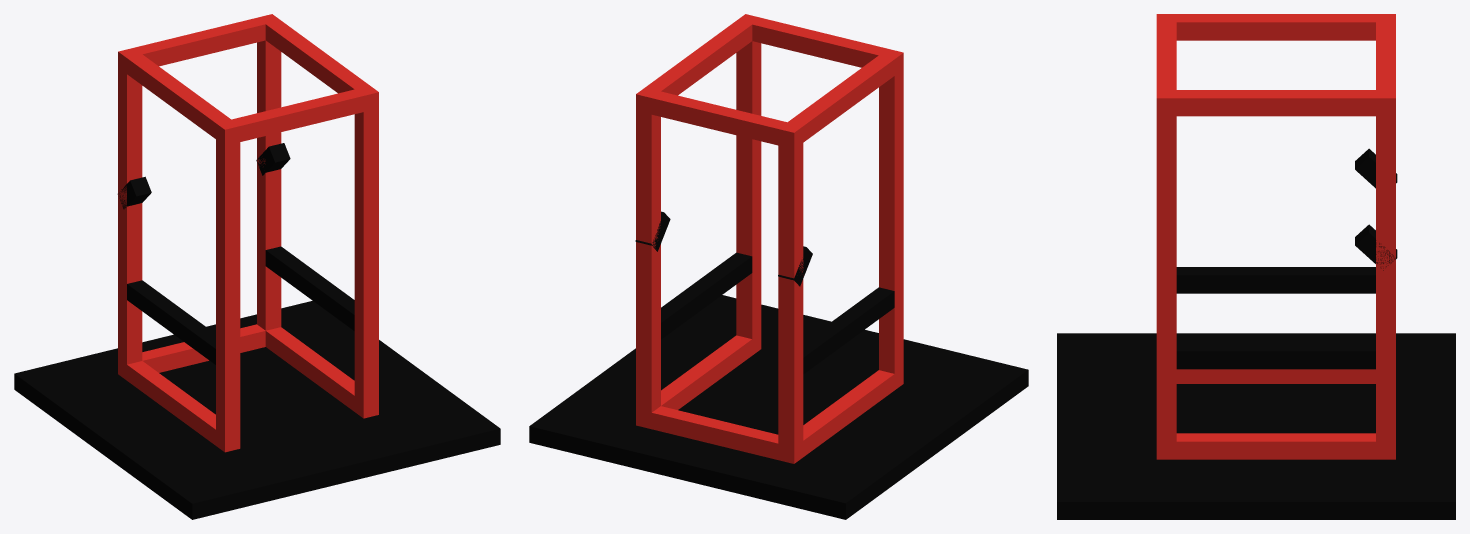
The model's file is squat.fbx.
3 views of the same model, side by side, from view 1: azimuth 30°, elevation 25°; view 2: azimuth 150°, elevation 25°; view 3: azimuth 270°, elevation 25° (orthographic). The views are drawn at different scales.
Parts seen in each view (by area): view 1: Cube, Cube.007, Cube.006, Cube.005, Cube.008, Cube.010, Cube.011, Cube.003, Cube.014, Cube.002, Cube.012, Cube.013 (+4 smaller); view 2: Cube, Cube.005, Cube.008, Cube.007, Cube.006, Cube.001, Cube.011, Cube.010, Cube.003, Cube.009, Cube.013, Cube.002 (+2 smaller); view 3: Cube, Cube.006, Cube.008, Cube.003, Cube.013, Cube.014, Cube.002, Cube.012, Cube.009, Cube.010, Cube.011, Cube.016 (+1 smaller).
Boxes of the visible parts, bbox=[...] form: Cube: bbox=[14, 300, 500, 519]; Cube.007: bbox=[216, 119, 240, 452]; Cube.006: bbox=[354, 86, 378, 418]; Cube.005: bbox=[118, 48, 142, 379]; Cube.008: bbox=[257, 14, 281, 330]; Cube.010: bbox=[216, 86, 378, 145]; Cube.011: bbox=[118, 14, 279, 67]; Cube.003: bbox=[127, 54, 230, 138]; Cube.014: bbox=[265, 327, 354, 411]; Cube.002: bbox=[265, 246, 354, 330]; Cube.012: bbox=[265, 20, 369, 93]; Cube.013: bbox=[127, 280, 215, 364]; Cube: bbox=[529, 295, 1028, 519]; Cube.005: bbox=[778, 122, 803, 447]; Cube.008: bbox=[636, 87, 660, 412]; Cube.007: bbox=[879, 51, 903, 389]; Cube.006: bbox=[736, 15, 761, 355]; Cube.001: bbox=[636, 406, 803, 463]; Cube.011: bbox=[645, 89, 803, 148]; Cube.010: bbox=[737, 14, 902, 75]; Cube.003: bbox=[788, 55, 894, 142]; Cube.009: bbox=[803, 370, 894, 456]; Cube.013: bbox=[803, 287, 894, 374]; Cube.002: bbox=[661, 252, 752, 339]; Cube: bbox=[1057, 333, 1455, 519]; Cube.006: bbox=[1156, 90, 1176, 459]; Cube.008: bbox=[1376, 90, 1395, 459]; Cube.003: bbox=[1176, 14, 1375, 40]; Cube.013: bbox=[1176, 267, 1375, 293]; Cube.014: bbox=[1176, 433, 1375, 459]; Cube.002: bbox=[1176, 343, 1375, 369]; Cube.012: bbox=[1176, 90, 1375, 116]; Cube.009: bbox=[1176, 369, 1375, 383]; Cube.010: bbox=[1156, 14, 1176, 116]; Cube.011: bbox=[1376, 14, 1395, 116]; Cube.016: bbox=[1355, 224, 1397, 270].
Bounding box in the file's own units: 2000 × 2100 × 2000.
